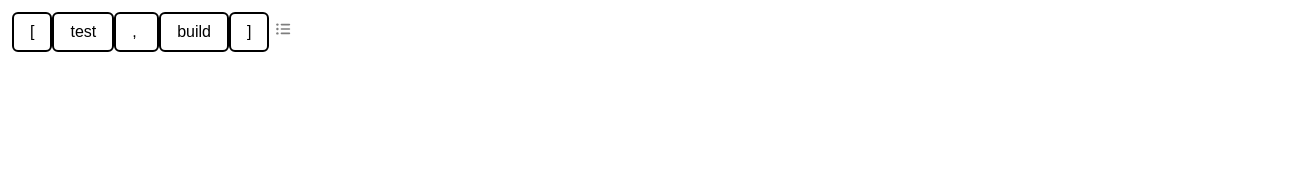
Subtasks › when there are subtasks › and the editor is opened › prefills it with the current list
The width and height of the screenshot is (1304, 172).
Click the button named "Edit subtasks": [32, 32] box [12,12,52,52]
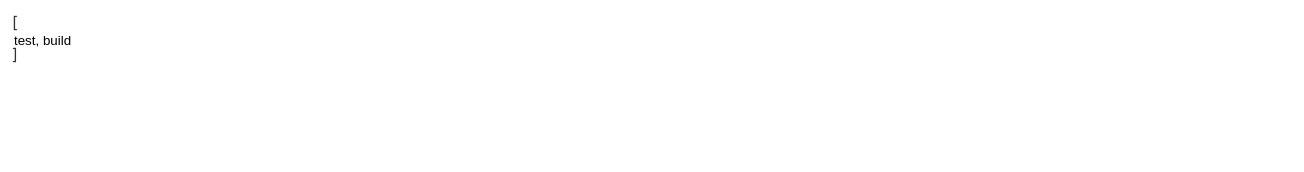
Check: the field named "Edit subtasks" holds "test, build", box [12,32,1292,48]
